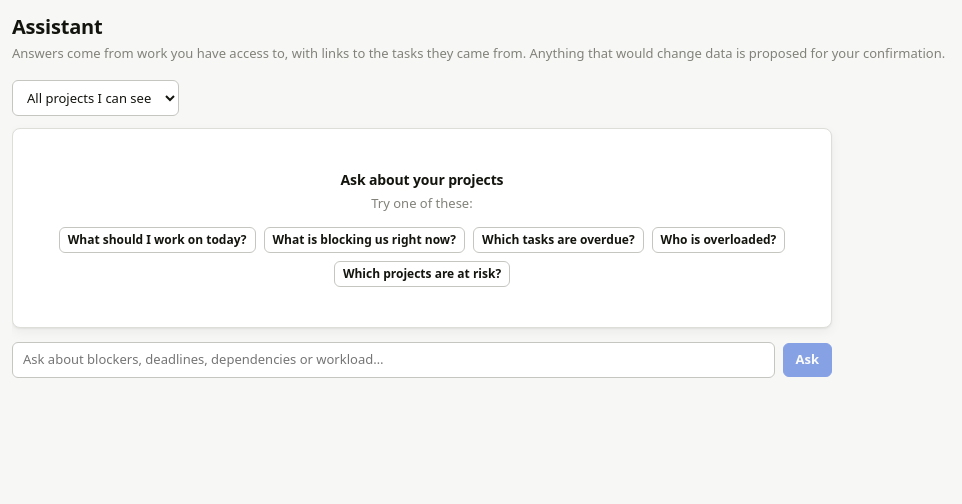
Test: Assistant › demands a stronger confirmation for a high-impact change
Type "Reassign ATLAS-3" into the field named "Question". click: x=393, y=360
box: 12,342 -> 774,378
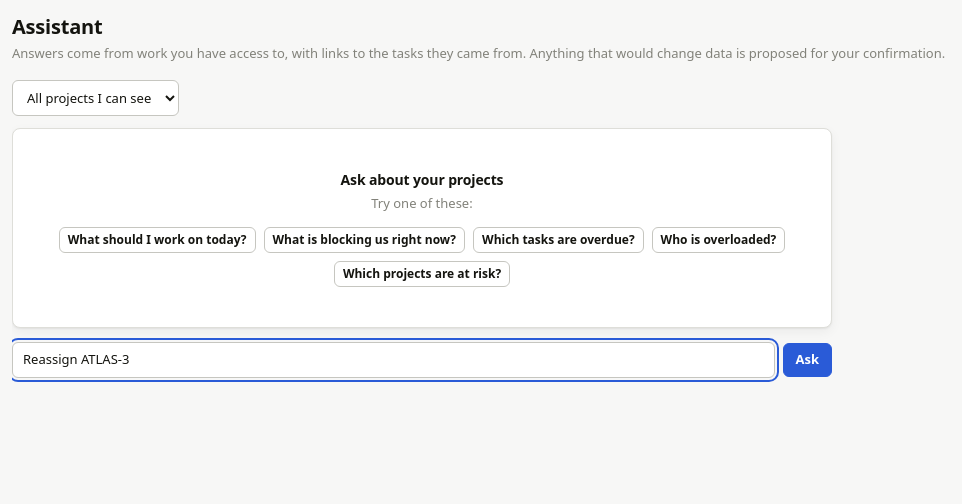
Click the button "Ask". click: x=807, y=360
box: 782,343 -> 832,376
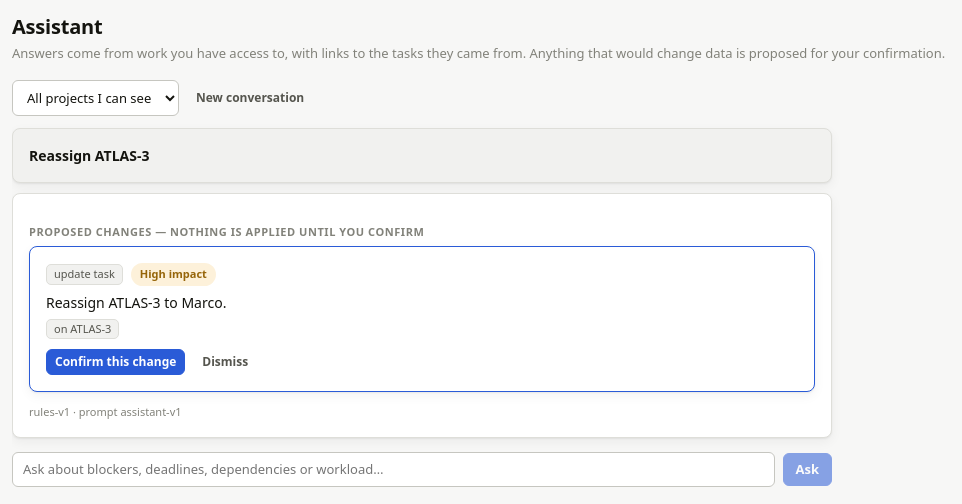
expect the text "High impact" is shown: met, box 131,263 -> 216,286
expect the button "Confirm this change" is shown: met, box 46,349 -> 185,375
